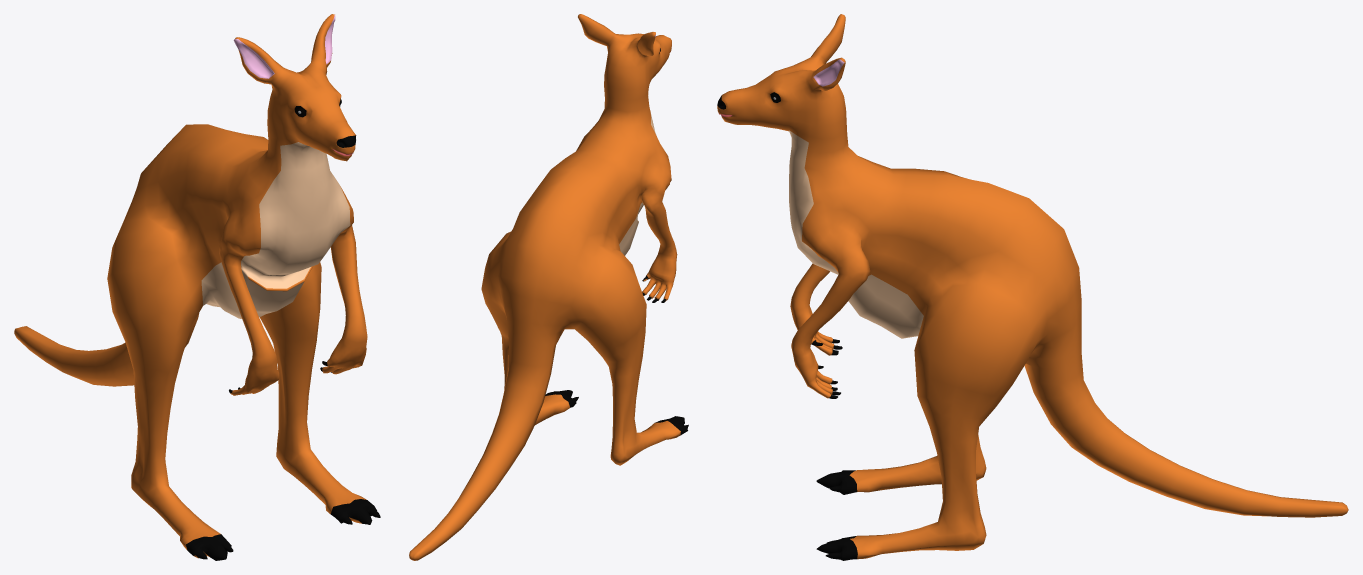
Rendered from kangaroo.glb.
3 renders of one model, left to right at view 1: azimuth 30°, elevation 25°; view 2: azimuth 150°, elevation 25°; view 3: azimuth 270°, elevation 25°, orthographic. The views are drawn at different scales.
Parts seen in each view (by area): view 1: kangaroo; view 2: kangaroo; view 3: kangaroo.
Boxes of the visible parts, x1,y1,x2,y2 form: kangaroo: (14, 14, 380, 560); kangaroo: (409, 14, 688, 560); kangaroo: (717, 14, 1348, 560).
Size of the model in its own units: 0.8049 by 2.05 by 2.42.
